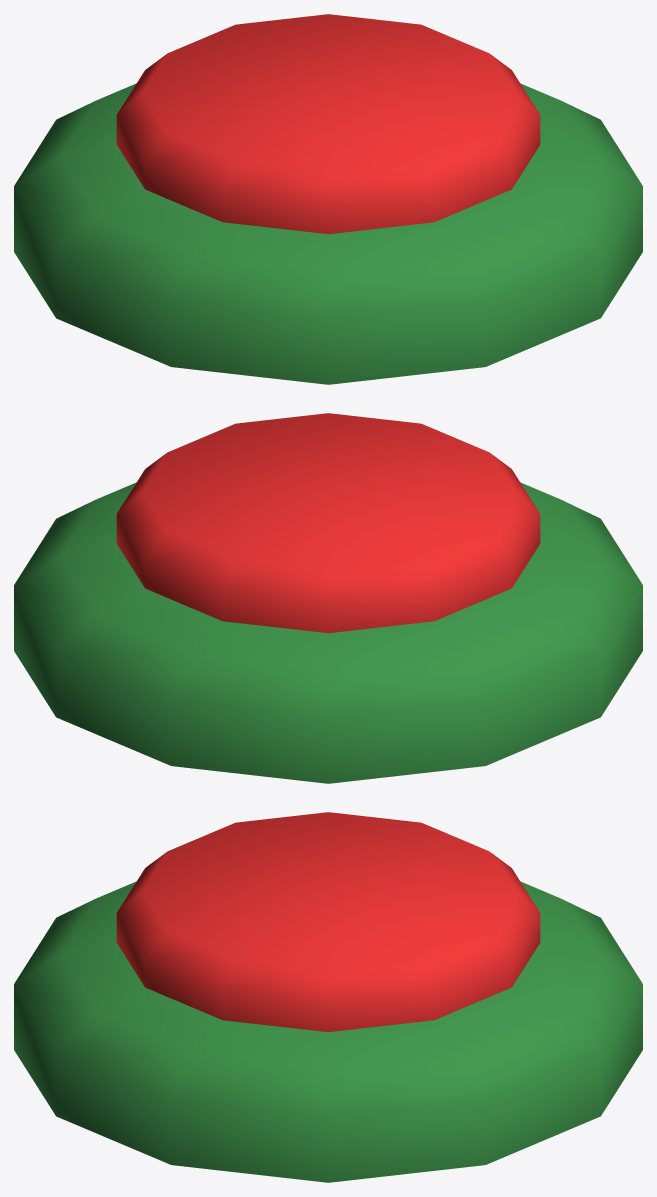
Rendered from Obstacle_Mine.fbx.
3 renders of one model, top to bottom at view 1: azimuth 30°, elevation 25°; view 2: azimuth 150°, elevation 25°; view 3: azimuth 270°, elevation 25°, orthographic.
Parts seen in each view (by area): view 1: Mine; view 2: Mine; view 3: Mine.
Part boxes in pixels (x1,y1,x2,y2): Mine: (14, 14, 642, 384); Mine: (14, 413, 642, 783); Mine: (14, 812, 642, 1182).
Size of the model in its own units: 2 by 0.5587 by 2.
